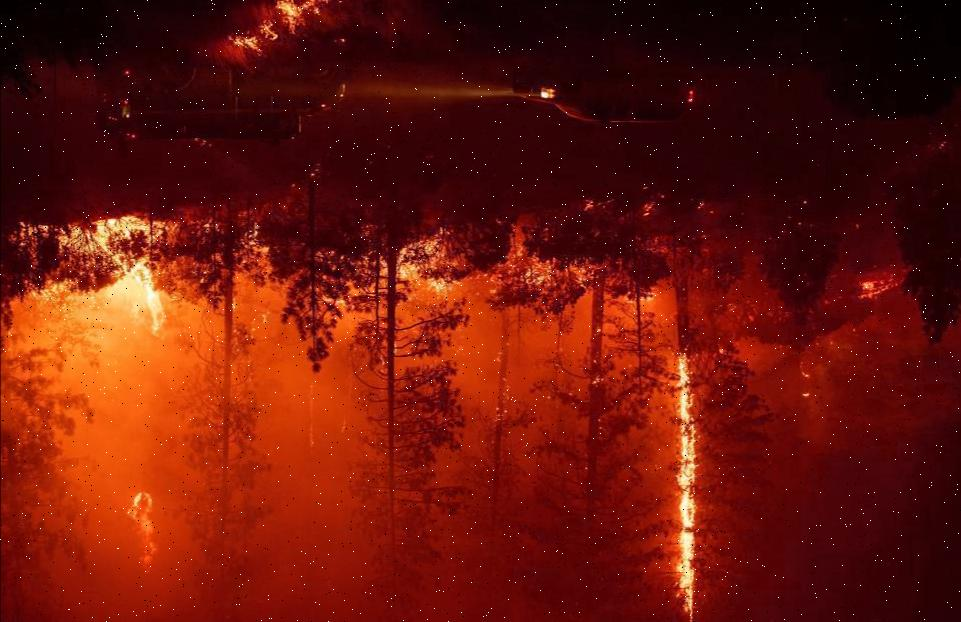fire: (247, 209, 597, 327), (0, 183, 202, 345), (634, 331, 725, 615), (188, 3, 360, 54)
